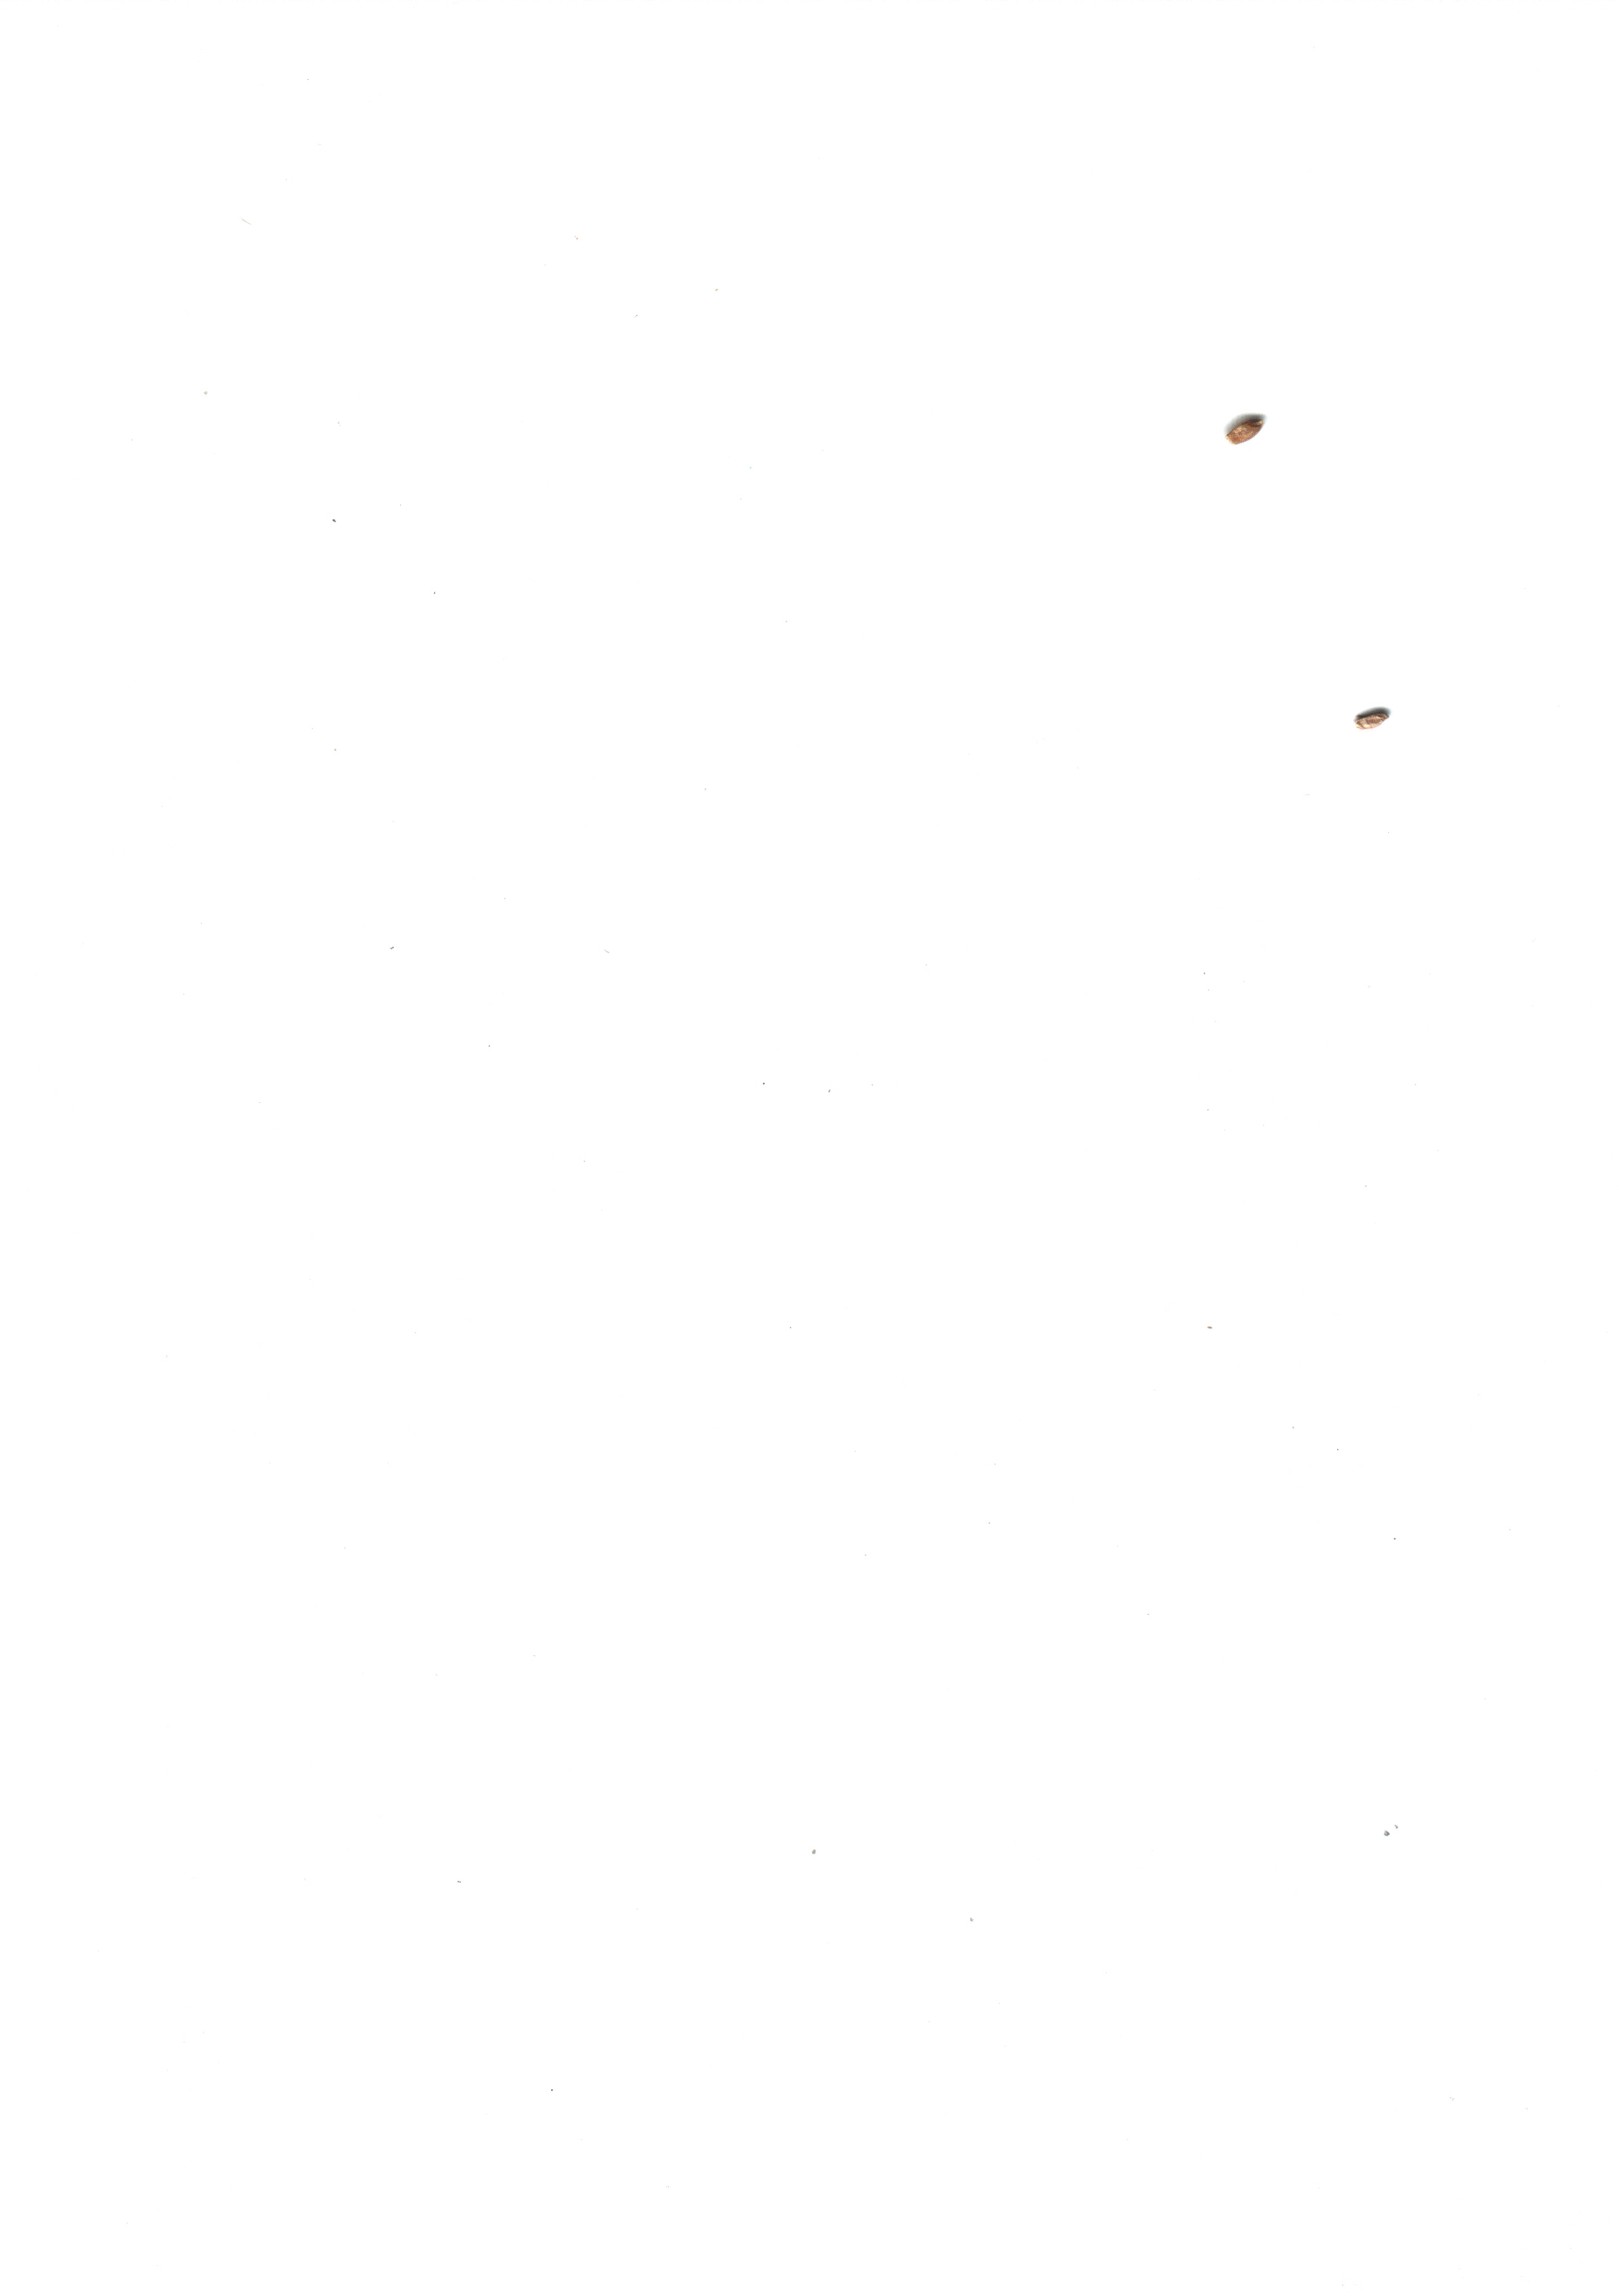grains_2mm: (1212, 401, 1276, 464), (1344, 692, 1402, 747)
